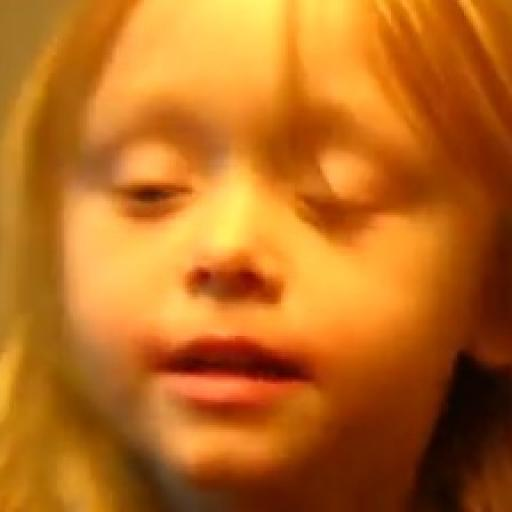Autism: (21, 0, 446, 512)
